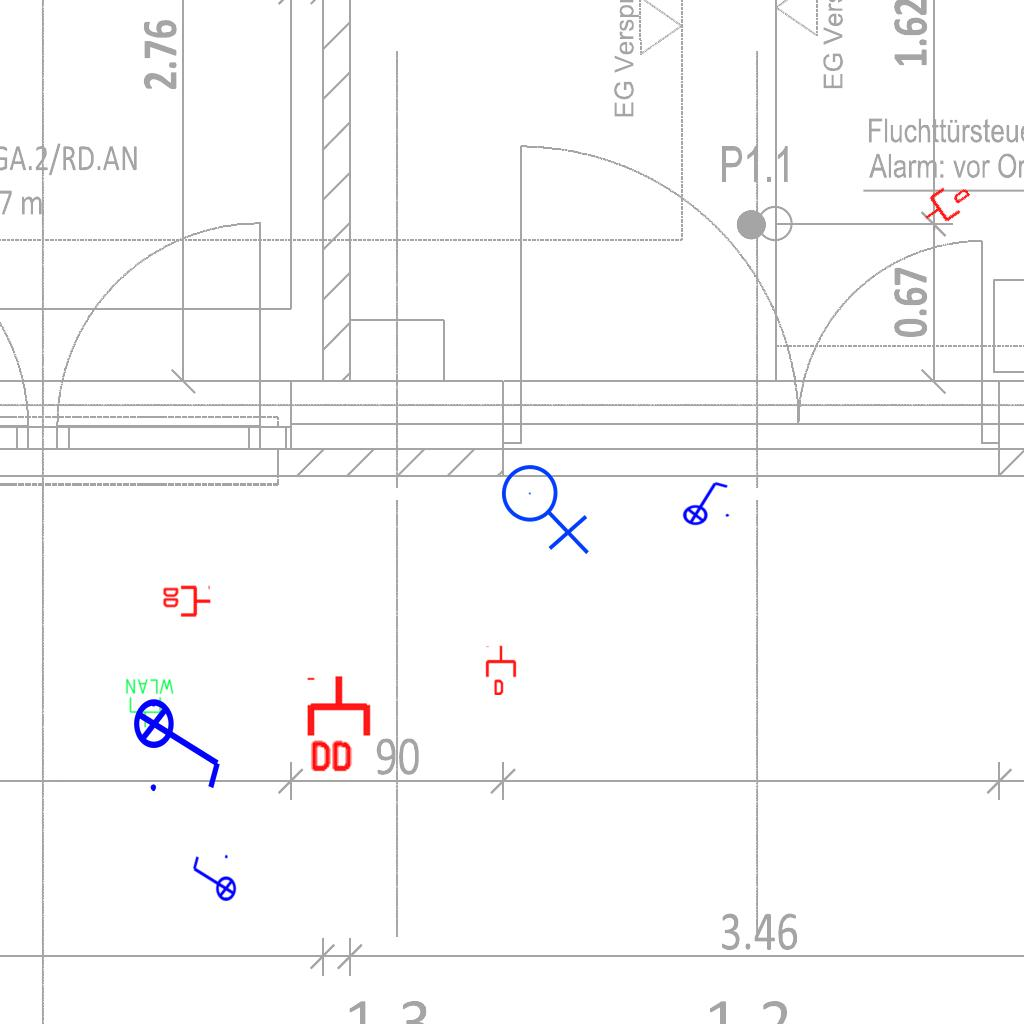Ausschalter_beleuchtet: (132, 685, 228, 797), (676, 478, 732, 526), (189, 852, 237, 908)
Datenanschluss_einfach: (915, 175, 977, 233), (484, 645, 518, 695)
Datenanschluss_zweifach: (306, 673, 375, 776), (161, 585, 212, 619)
Elektroanschluss_allgemein_230V_Geraeteanschlussdose_230V: (500, 456, 594, 555)
WLAN: (124, 677, 176, 729)
